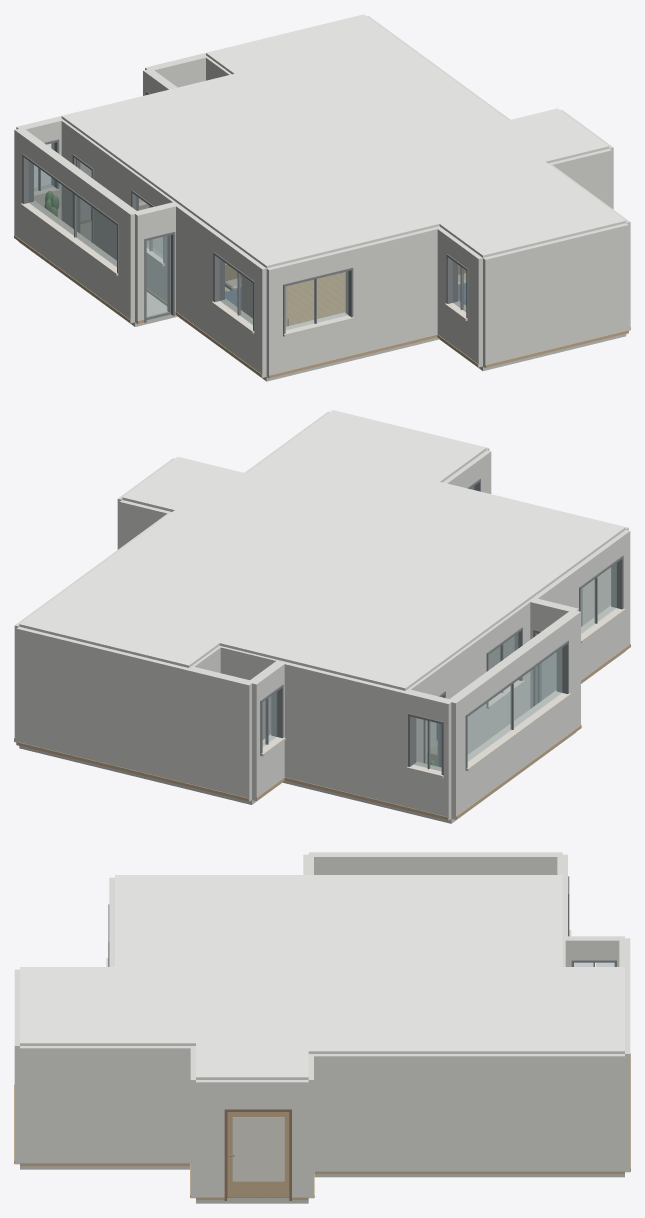
Rendered from two-01.glb.
The picture shows the model from 3 angles, top to bottom: view 1: azimuth 30°, elevation 25°; view 2: azimuth 150°, elevation 25°; view 3: azimuth 270°, elevation 25°; orthographic projection. The views are drawn at different scales.
Visible parts, largest first — view 1: ceiling_ceiling, architecture_wall, frames_glass, frames_metal, frames_ivory, door_glass (×2), floor_woodfloor, trim_oak, slab_edge; view 2: ceiling_ceiling, architecture_wall, frames_glass, frames_metal, frames_ivory, trim_oak, slab_edge, furniture_ivory, door_glass; view 3: ceiling_ceiling, architecture_wall, door_ivory, slab_edge, trim_oak, door_oak, frames_walnut.
Part boxes in pixels (x1,y1,x2,y2): ceiling_ceiling: (61, 14, 626, 268); architecture_wall: (14, 15, 630, 378); frames_glass: (28, 143, 465, 329); frames_metal: (22, 91, 468, 335); frames_ivory: (20, 184, 467, 336); door_glass (×2): (77, 160, 169, 317); floor_woodfloor: (287, 272, 345, 325); trim_oak: (14, 219, 630, 378); slab_edge: (19, 242, 626, 381); ceiling_ceiling: (19, 410, 625, 690); architecture_wall: (14, 411, 630, 820); frames_glass: (263, 486, 616, 771); frames_metal: (260, 478, 623, 776); frames_ivory: (261, 606, 625, 778); trim_oak: (14, 644, 630, 820); slab_edge: (19, 651, 625, 823); furniture_ivory: (581, 567, 610, 626); door_glass: (540, 653, 556, 700); ceiling_ceiling: (20, 875, 624, 1079); architecture_wall: (14, 852, 630, 1200); door_ivory: (232, 1117, 284, 1181); slab_edge: (20, 1166, 624, 1203); trim_oak: (14, 1053, 630, 1200); door_oak: (227, 1112, 289, 1197); frames_walnut: (224, 1109, 291, 1200).
Bounding box in the file's own units: 11.53 × 2.93 × 12.98.
Materials: 20 (4 with a texture image).
